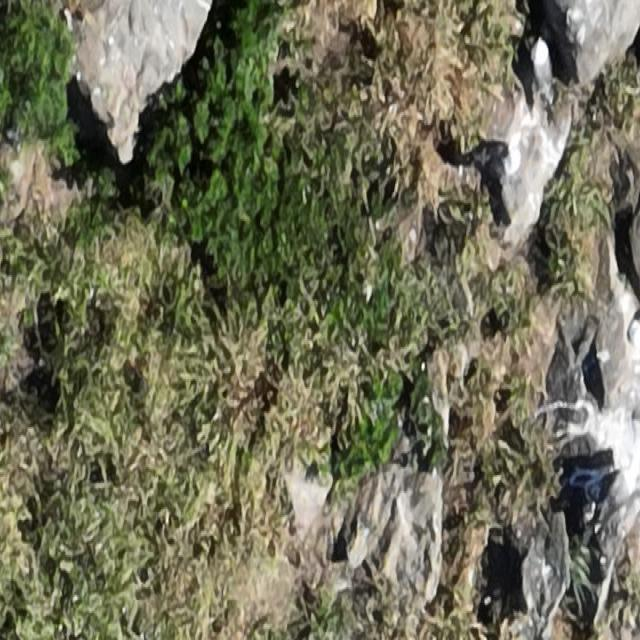umineko: (604, 469, 633, 523), (532, 38, 554, 98)
